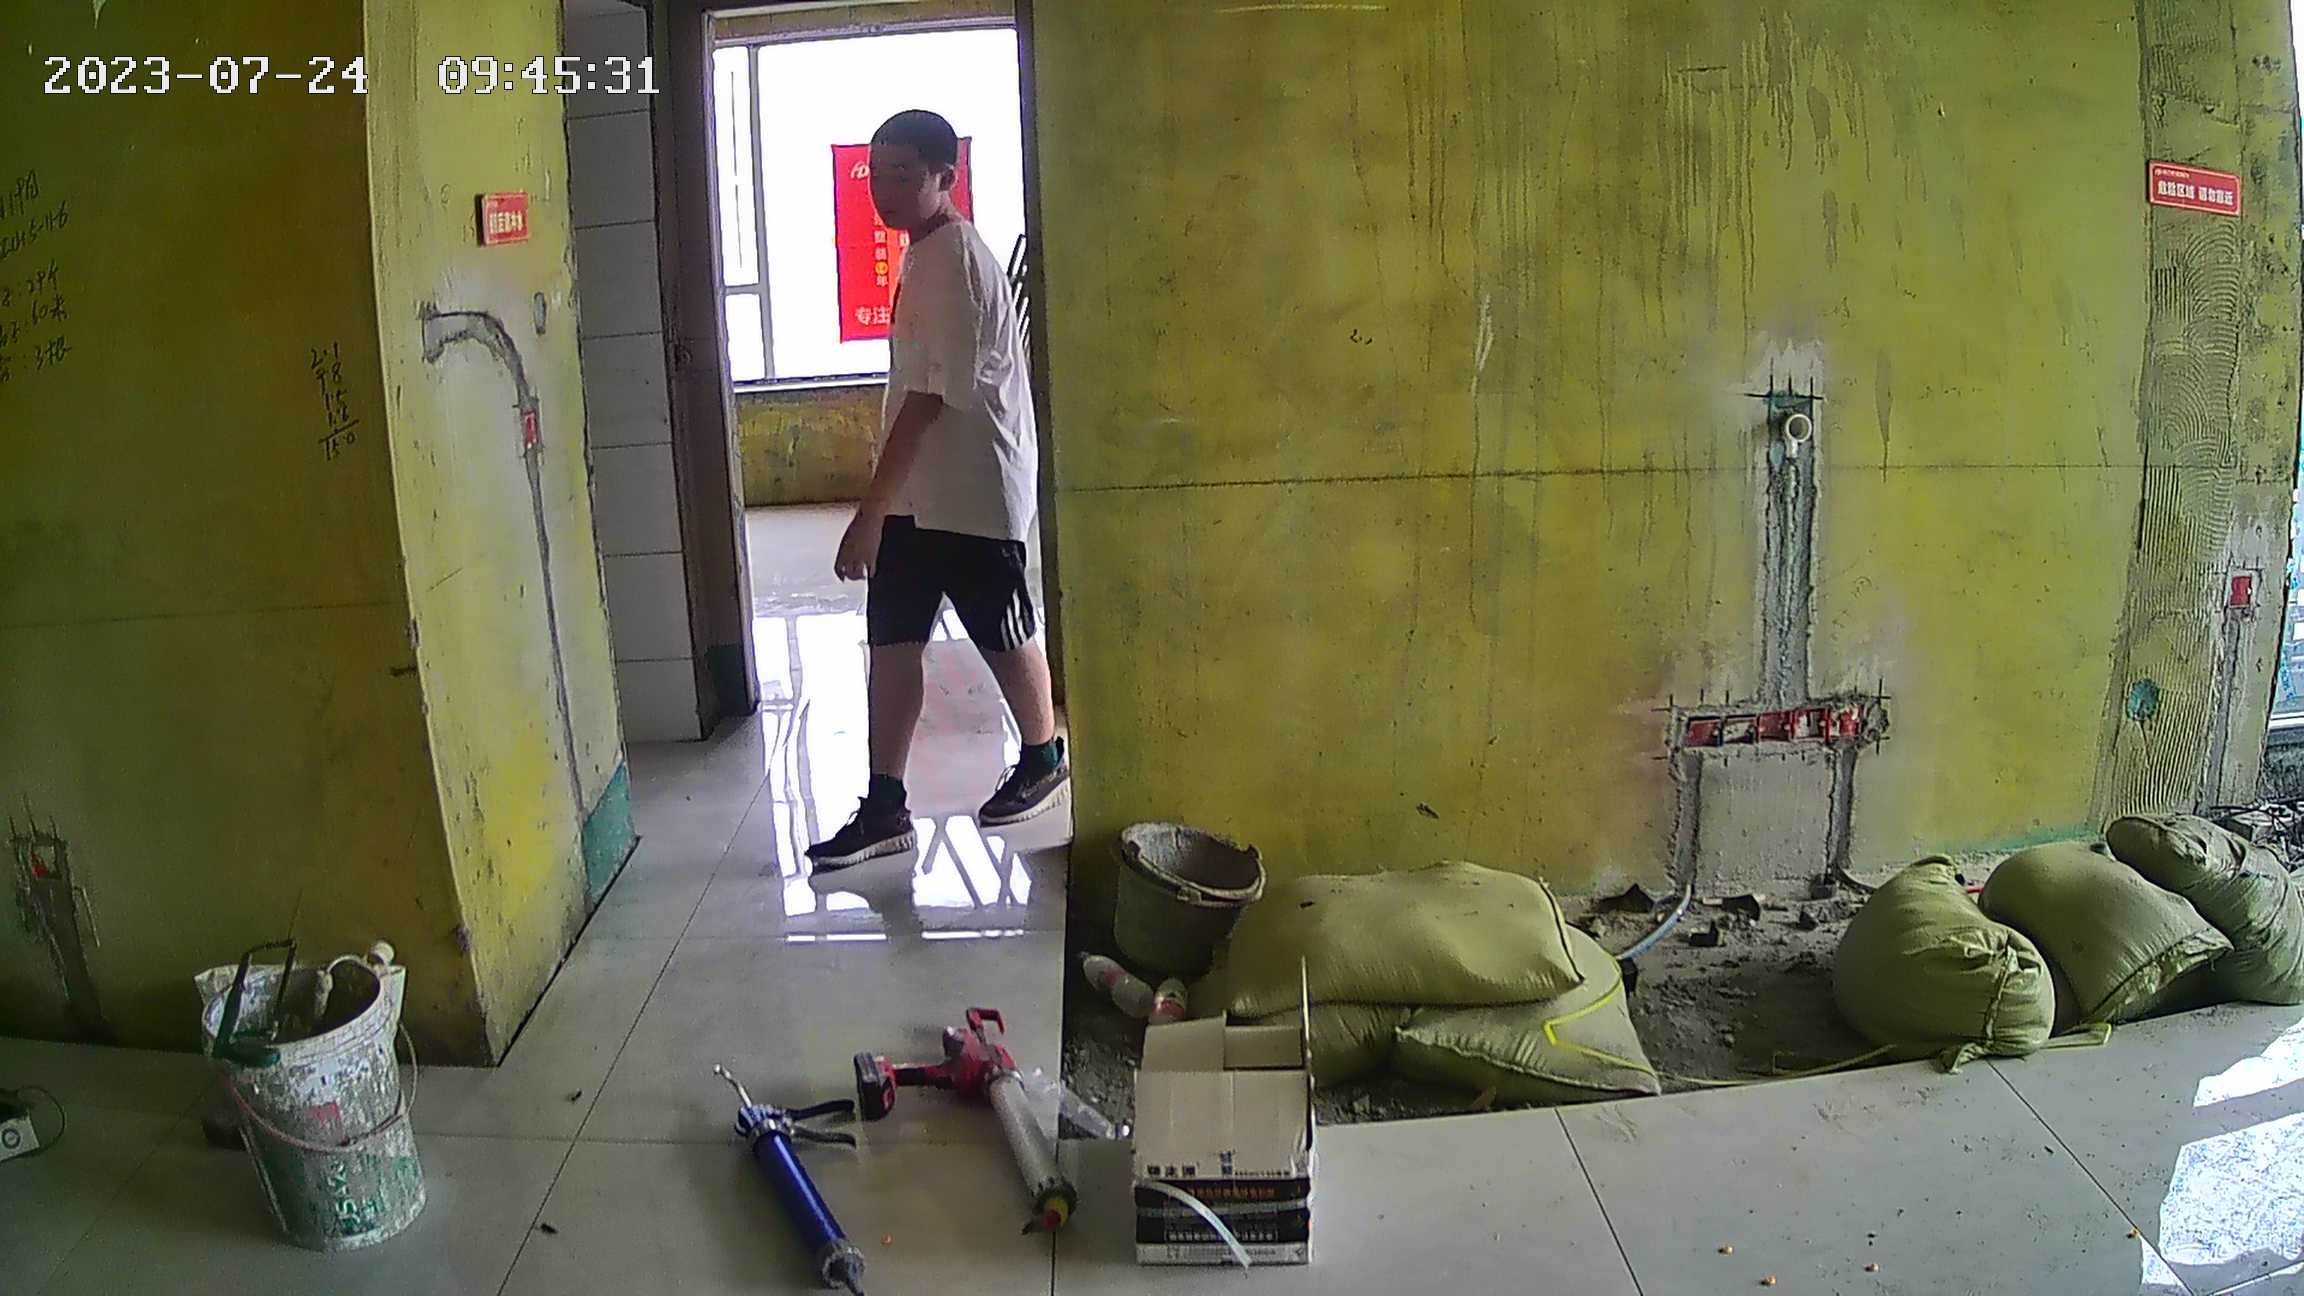people: (805, 109, 1068, 863)
window: (732, 29, 1022, 385)
